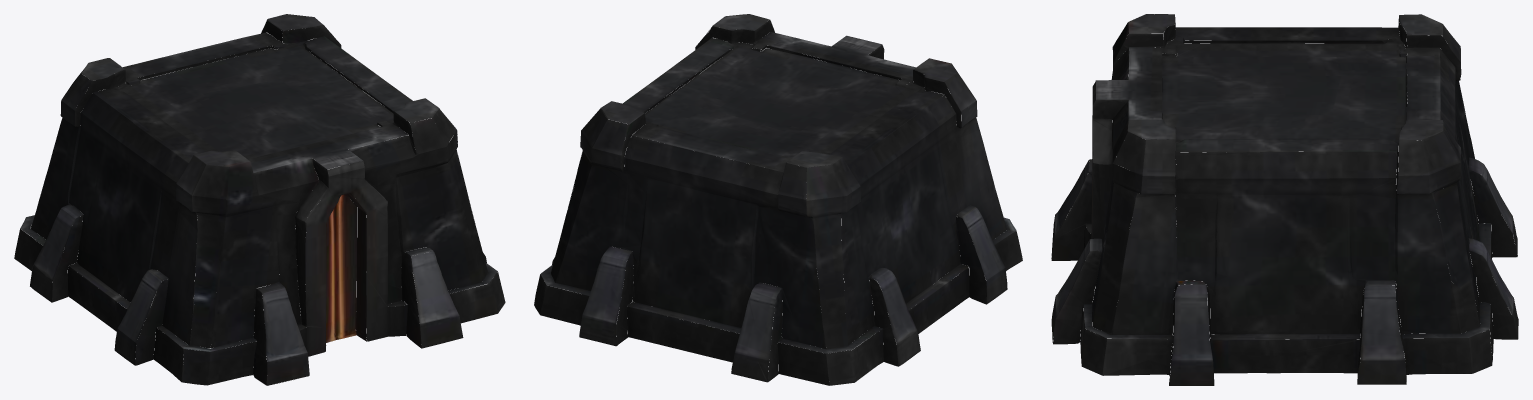
File: vault.glb
3 views of the same model, side by side, from view 1: azimuth 30°, elevation 25°; view 2: azimuth 150°, elevation 25°; view 3: azimuth 270°, elevation 25° (orthographic). The views are drawn at different scales.
Parts seen in each view (by area): view 1: geometry_0; view 2: geometry_0; view 3: geometry_0.
Boxes of the visible parts, x1,y1,x2,y2 form: geometry_0: (14,14,505,385); geometry_0: (534,14,1022,385); geometry_0: (1051,14,1518,385).
Bounding box in the file's own units: 1.9 × 1 × 1.97.
Materials: 1 (1 with a texture image).
